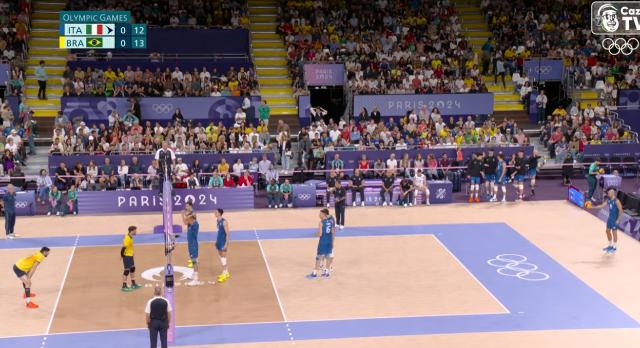Levantador: (122, 227, 138, 291), (183, 202, 194, 218)
bola: (586, 200, 592, 210)
